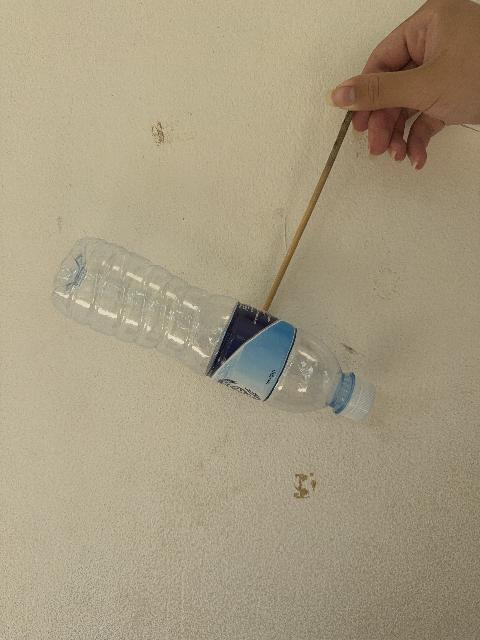bottle: (52, 238, 375, 420)
